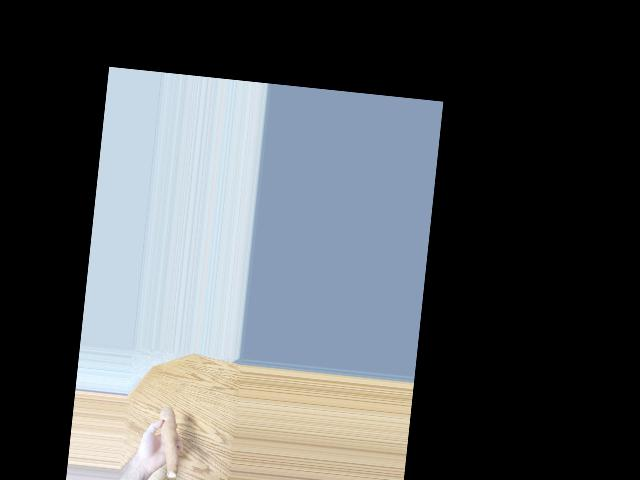sweet_potato: (156, 401, 185, 476)
